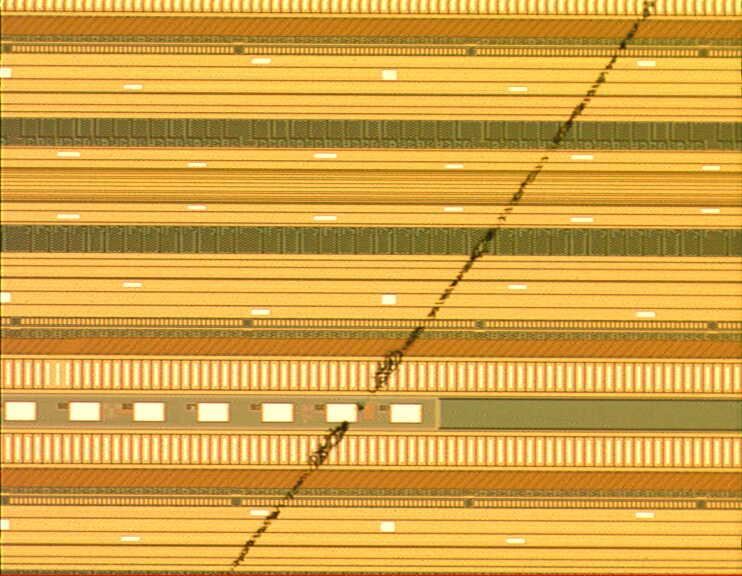SCRATCH: (221, 1, 666, 572)
